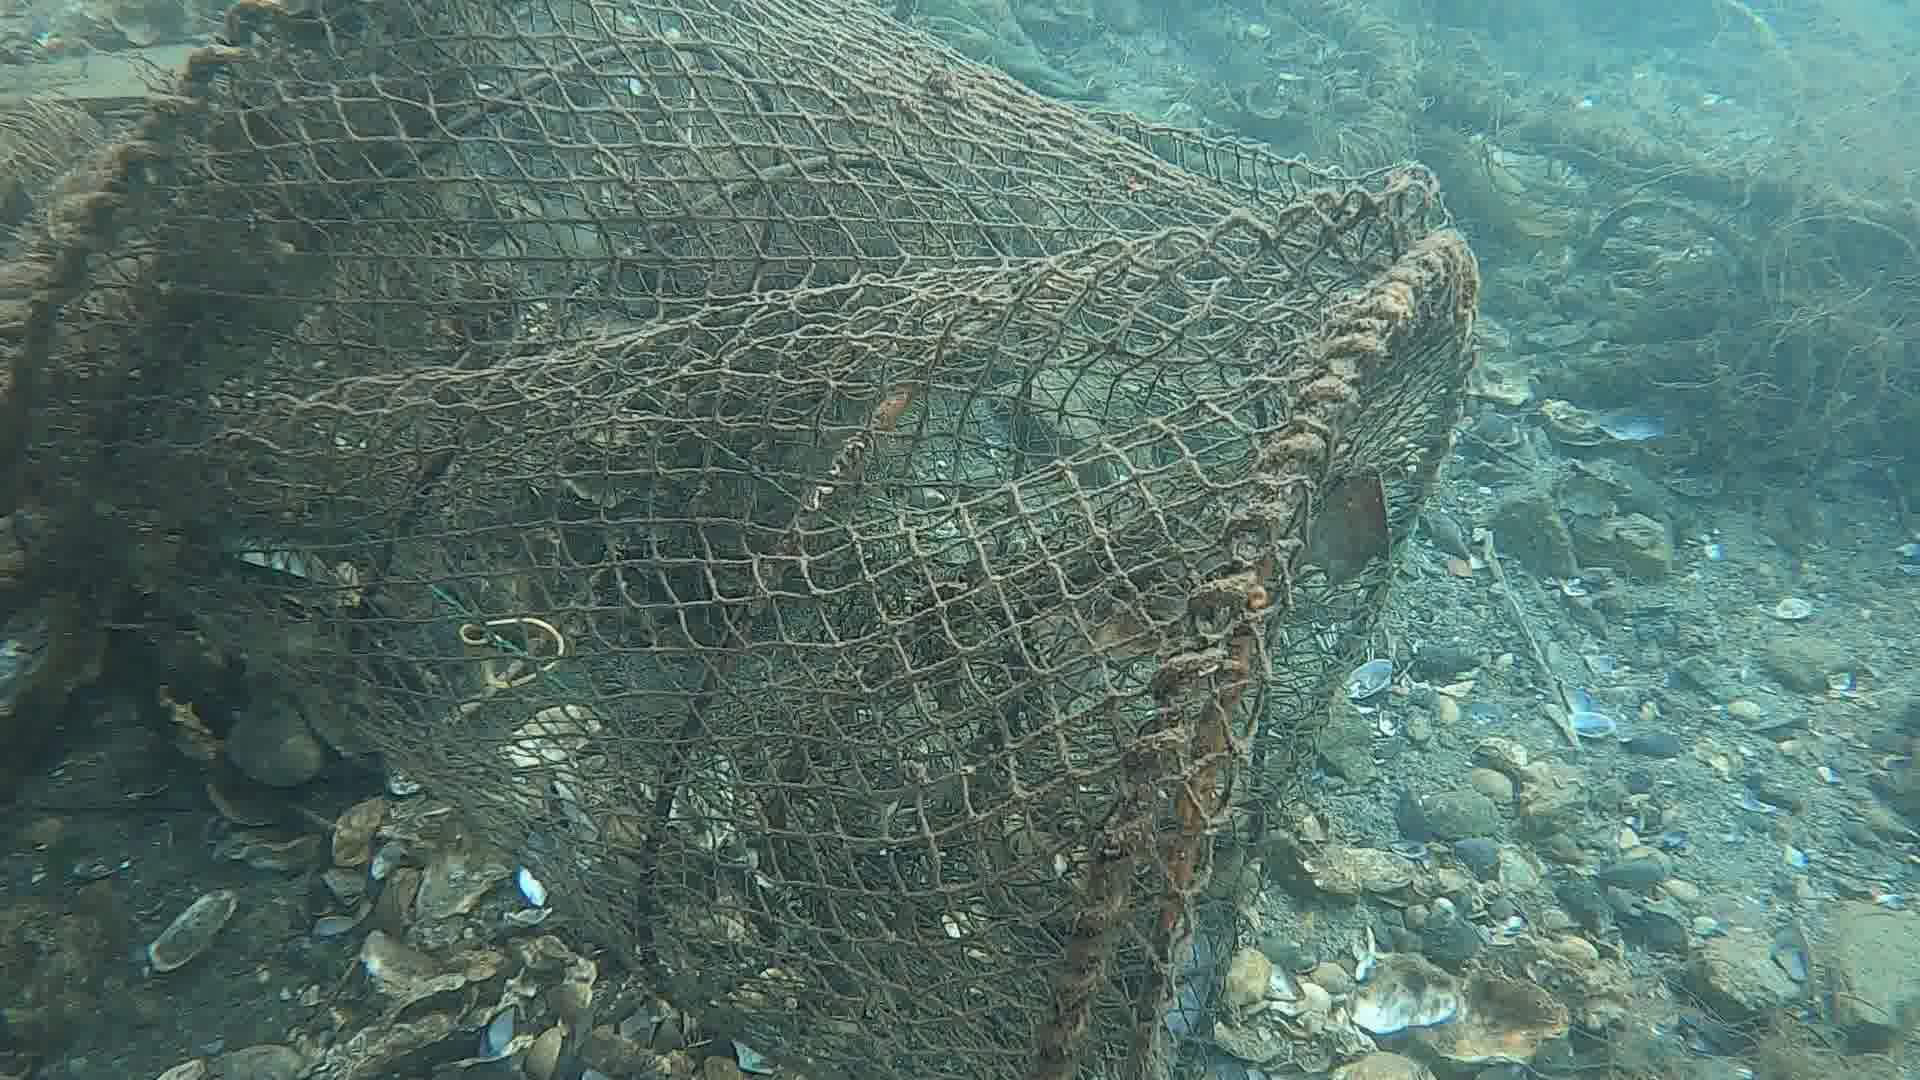spring fish trap: (0, 0, 1481, 1080)
